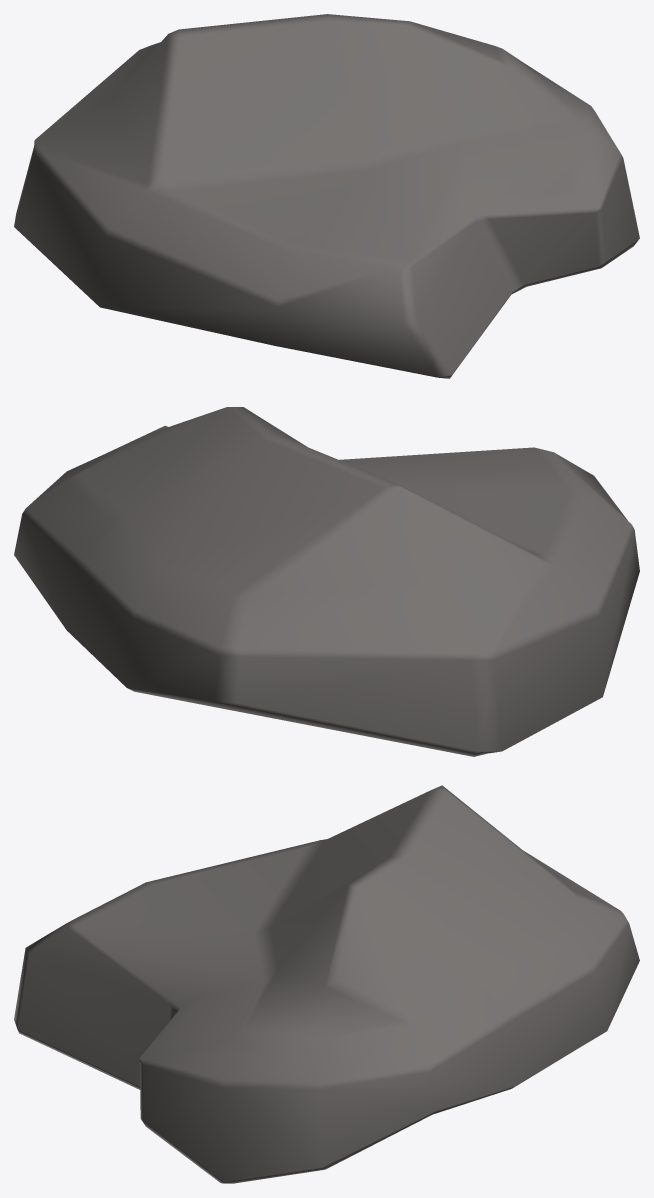
Rendered from _asteroid_010.fbx.
3 renders of one model, top to bottom at view 1: azimuth 30°, elevation 25°; view 2: azimuth 150°, elevation 25°; view 3: azimuth 270°, elevation 25°, orthographic. The views are drawn at different scales.
Visible parts, largest first — view 1: Аsteroid_010; view 2: Аsteroid_010; view 3: Аsteroid_010.
Boxes of the visible parts, left/top/right/bottom form: Аsteroid_010: left=14, top=14, right=639, bottom=378; Аsteroid_010: left=14, top=407, right=639, bottom=756; Аsteroid_010: left=14, top=785, right=639, bottom=1183.
Size of the model in its own units: 725 by 318 by 758.
1 material, 1 textured.
